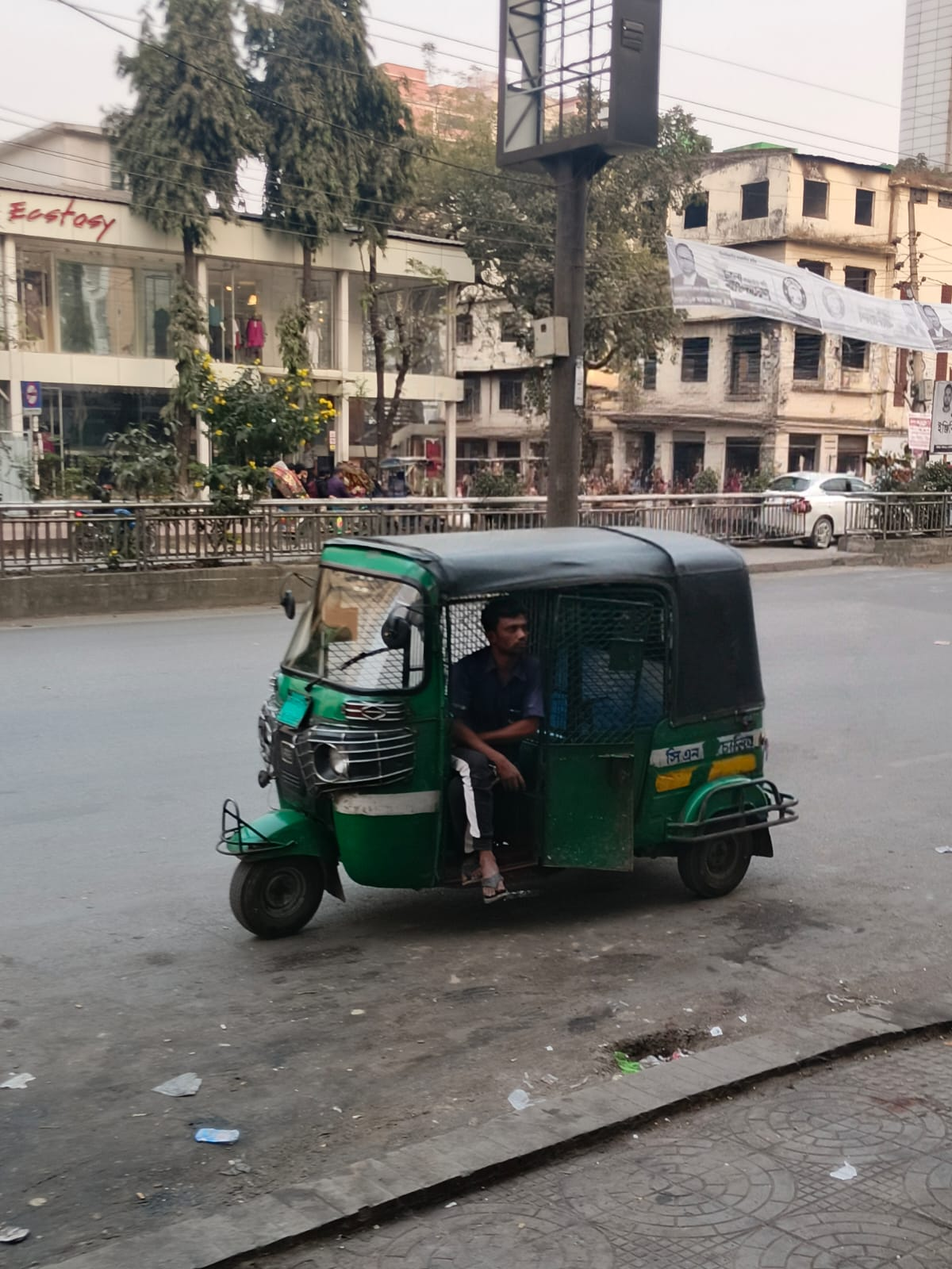cng: (210, 501, 801, 949)
